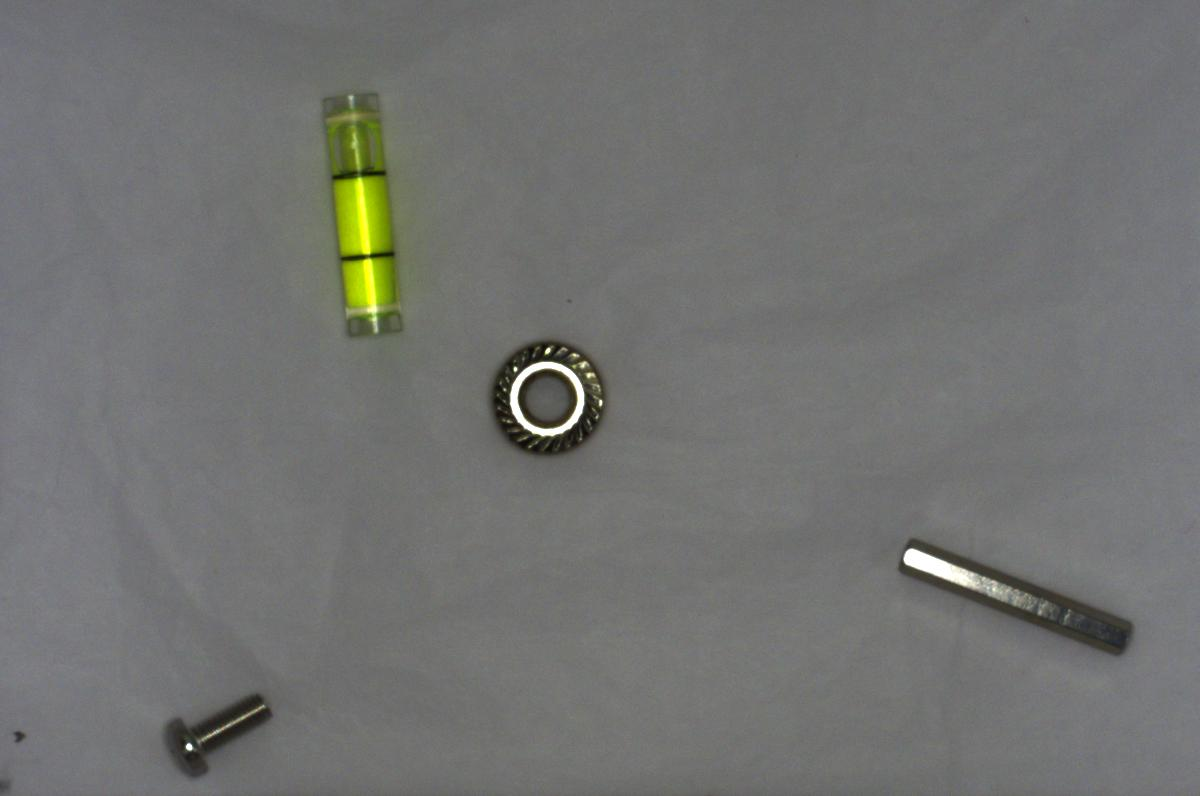Double hexagonal column: (890, 533, 1140, 656)
Flange nut: (482, 333, 612, 459)
Horizontal bubble: (313, 78, 407, 346)
Round head screw: (159, 688, 284, 779)
